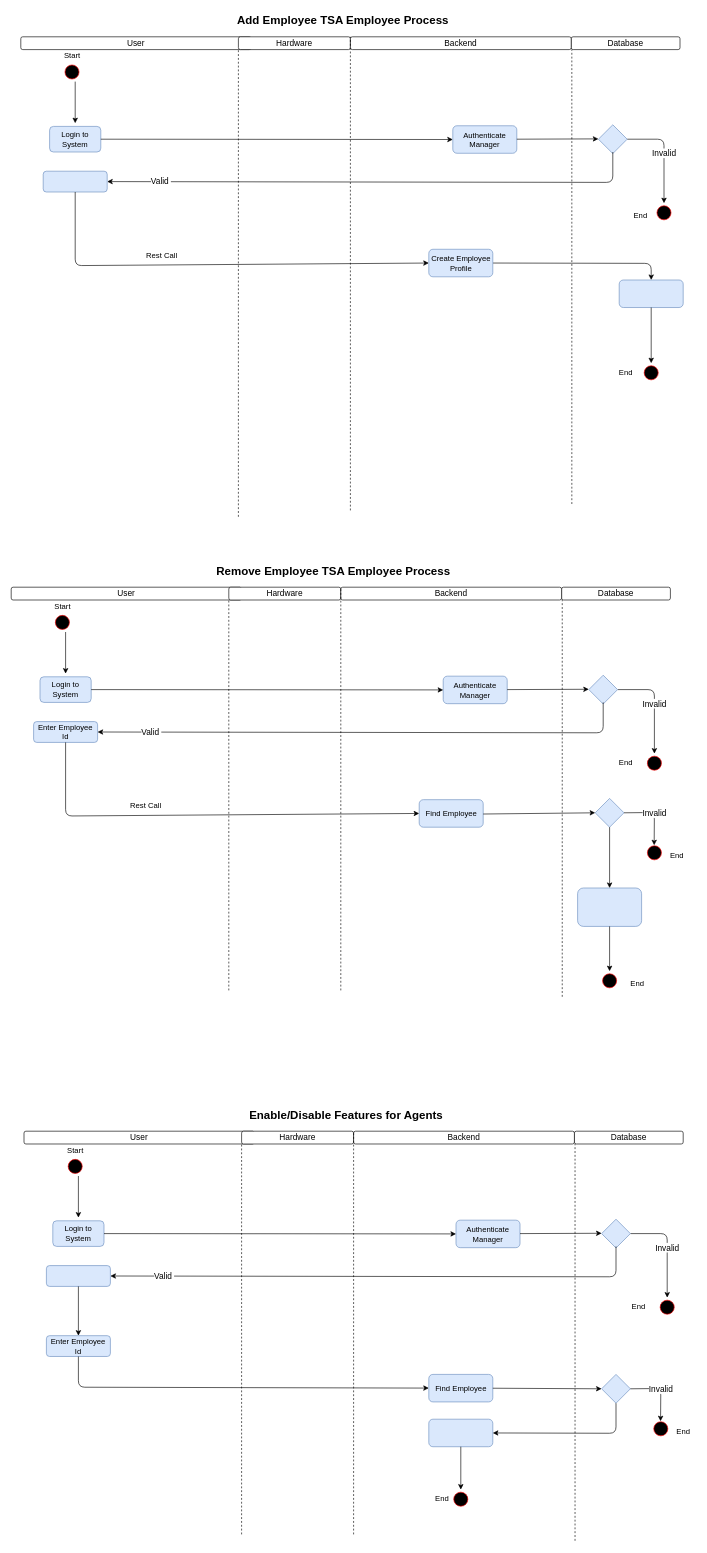
Some shapes in this 707 by 1553 pixel diagram are drawn without their labels. Here are the shapes that lost their labels. From the top down, the box of each, then its label:
(43, 171, 107, 192): Enter Employee Information
(619, 279, 683, 308): Store Data
(577, 887, 642, 926): Delete Employee Profile and Credentials
(46, 1265, 110, 1286): Find Feature to Enable/Disable
(428, 1419, 493, 1447): Change AWS Security Setting for Employee
